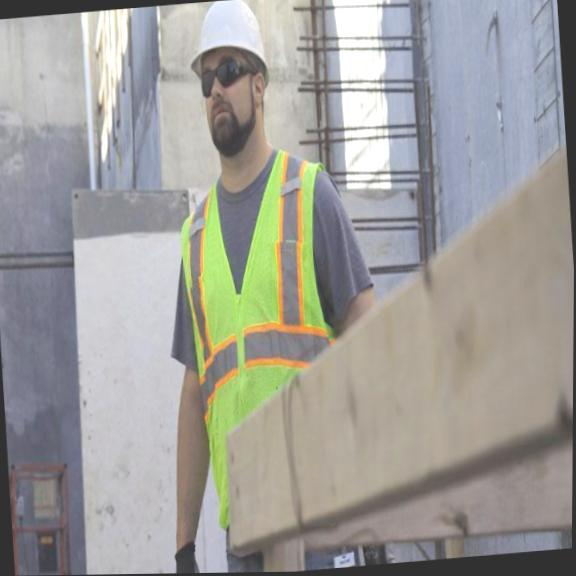safety_vest: (178, 138, 337, 537)
